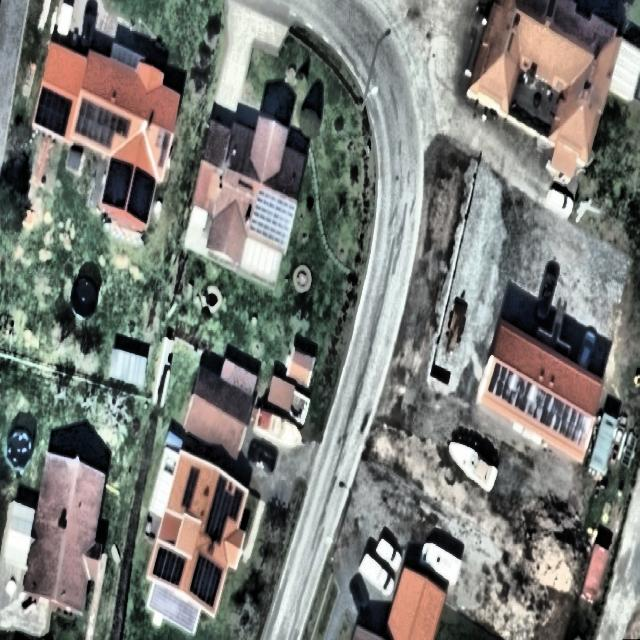roof_pv: (530, 384, 594, 448), (76, 91, 132, 150), (249, 186, 296, 247), (489, 360, 535, 416), (189, 548, 224, 612), (34, 87, 74, 136), (102, 156, 134, 215), (205, 473, 230, 542), (150, 541, 187, 586), (128, 167, 156, 220), (181, 462, 203, 516), (228, 482, 245, 523)
